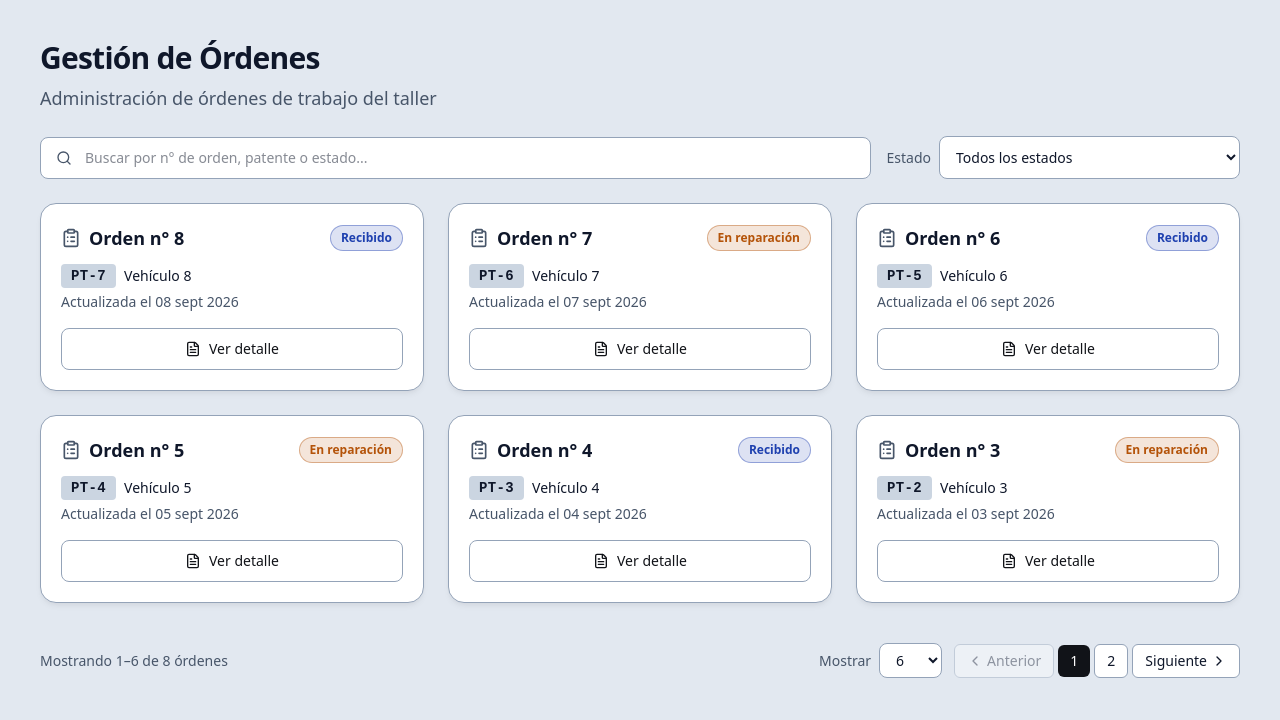
Test case: AdminOrdersPage: listado de órdenes (filtros, paginación, offline) › pagina cuando el total supera el tamaño de página
The width and height of the screenshot is (1280, 720).
Expected: the text "Orden n° 8" is shown, x1=89 y1=224 x2=184 y2=252
Expected: the text "Mostrando 1–6 de 8 órdenes" is shown, x1=40 y1=650 x2=228 y2=670
Click the button "Siguiente". click: (1186, 660)
box: x1=1132 y1=644 x2=1240 y2=678
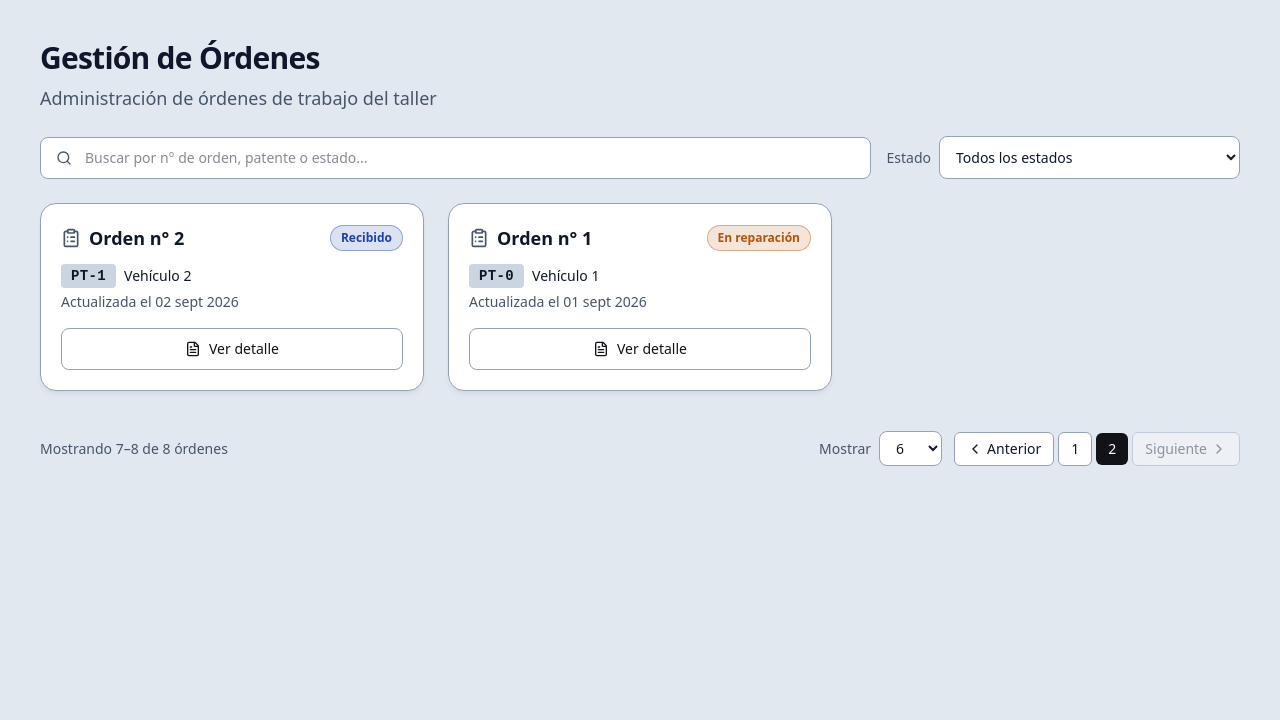
Expected: the text "Orden n° 1" is shown, x1=497 y1=224 x2=592 y2=252
